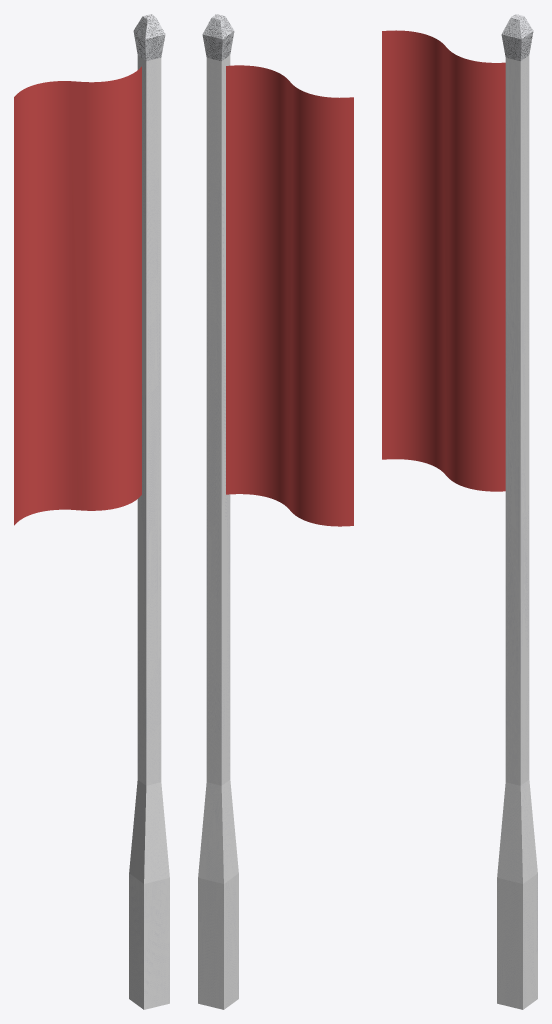
Rendered from kit_flagRed.obj.
3 views of the same model, side by side, from view 1: azimuth 30°, elevation 25°; view 2: azimuth 150°, elevation 25°; view 3: azimuth 330°, elevation 25° (orthographic).
Visible parts, largest first — view 1: flagRed, Group; view 2: flagRed, Group; view 3: flagRed, Group.
Part boxes in pixels (x1=…): flagRed: x1=14, y1=66, x2=141, y2=525; Group: x1=129, y1=14, x2=169, y2=1009; flagRed: x1=226, y1=65, x2=353, y2=526; Group: x1=198, y1=14, x2=238, y2=1009; flagRed: x1=382, y1=30, x2=505, y2=491; Group: x1=497, y1=14, x2=537, y2=1009.
Bounding box in the file's own units: 0.1972 × 1.25 × 0.0352.
